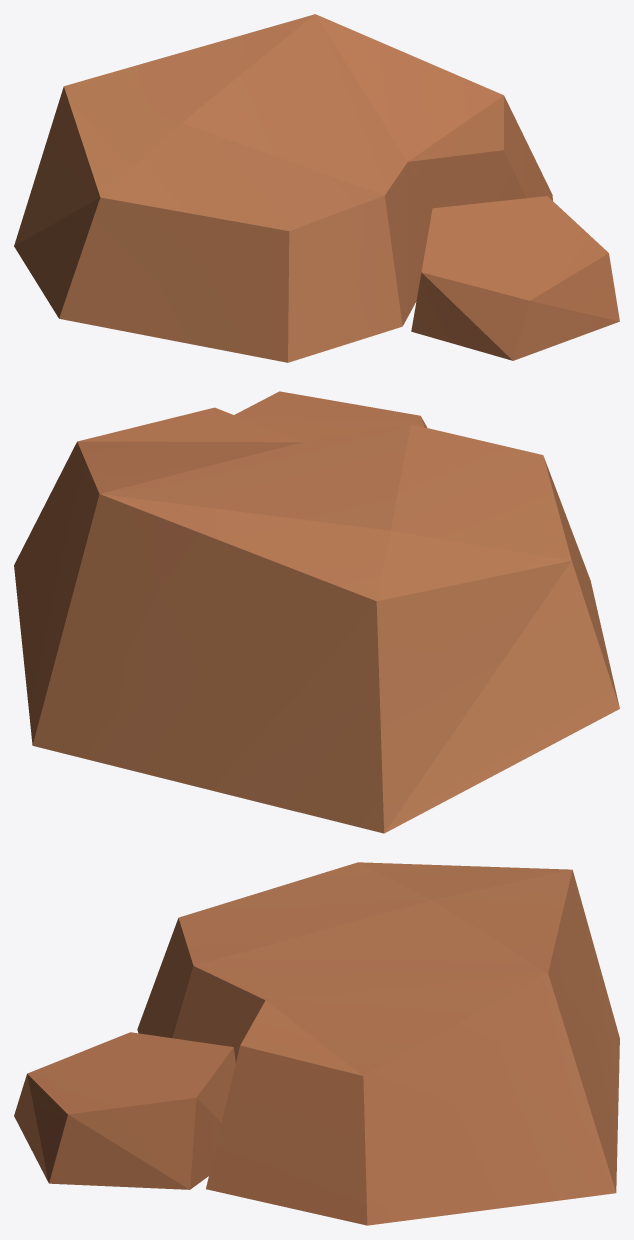
File: rocks3.fbx
3 views of the same model, one above another, from view 1: azimuth 30°, elevation 25°; view 2: azimuth 150°, elevation 25°; view 3: azimuth 270°, elevation 25° (orthographic). The views are drawn at different scales.
Visible parts, largest first — view 1: stone-flat; view 2: stone-flat; view 3: stone-flat.
Boxes of the visible parts, x1=… form: stone-flat: x1=14, y1=14, x2=619, y2=362; stone-flat: x1=14, y1=391, x2=619, y2=833; stone-flat: x1=14, y1=862, x2=619, y2=1225.
Size of the model in its own units: 232 by 88.23 by 226.
Materials: 1 (1 with a texture image).
